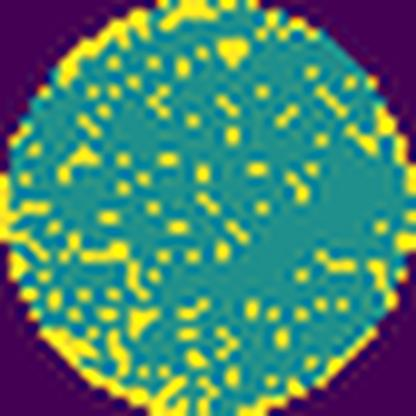Edge-Loc: (32, 320, 190, 415), (54, 0, 155, 86), (0, 159, 60, 267), (163, 0, 223, 34)
